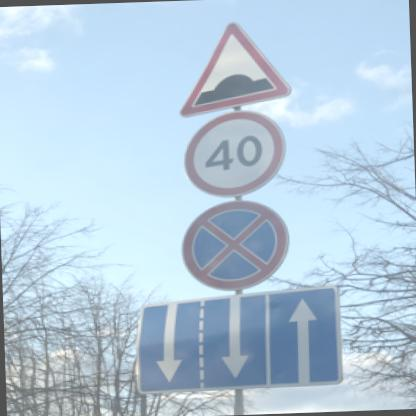speedlimit: (180, 108, 286, 198)
